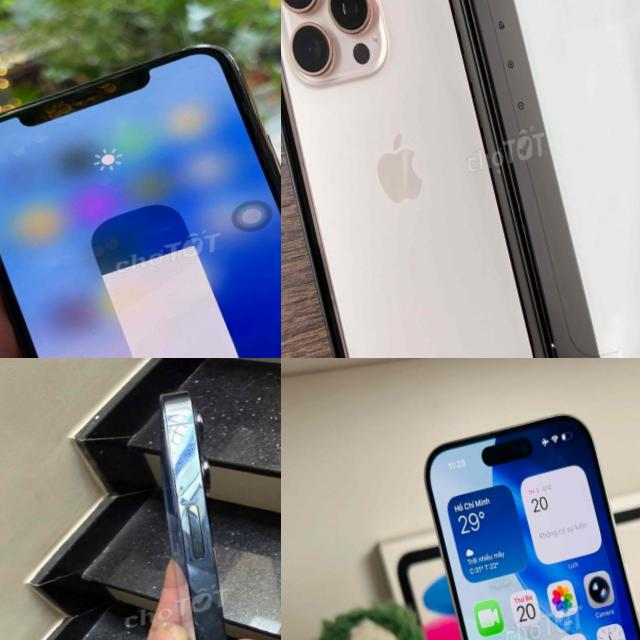gen_11: (0, 10, 281, 358)
gen_12_13: (97, 376, 281, 640)
gen_15: (395, 400, 640, 640)
gen_16: (281, 0, 534, 358)
physical_damage: (14, 62, 148, 133)
